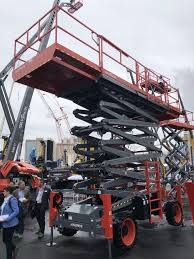Scissor Lift: (11, 5, 185, 259)
